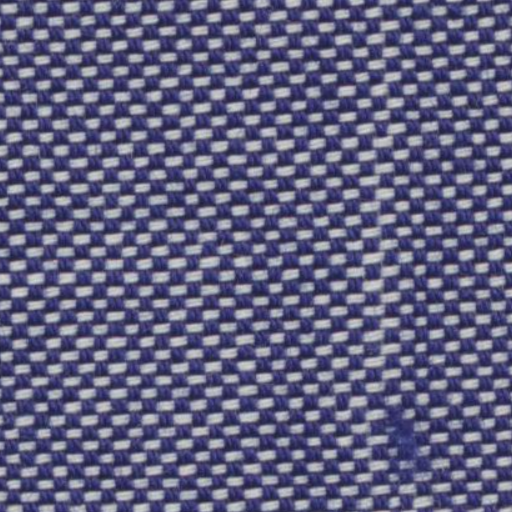TuoSha: (321, 6, 460, 491)
